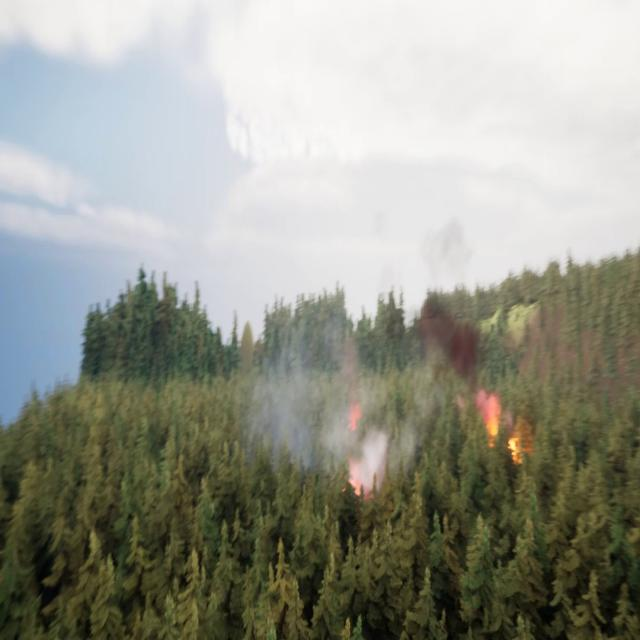fire: (478, 388, 532, 462)
smoke: (249, 282, 406, 490), (420, 214, 498, 395)
